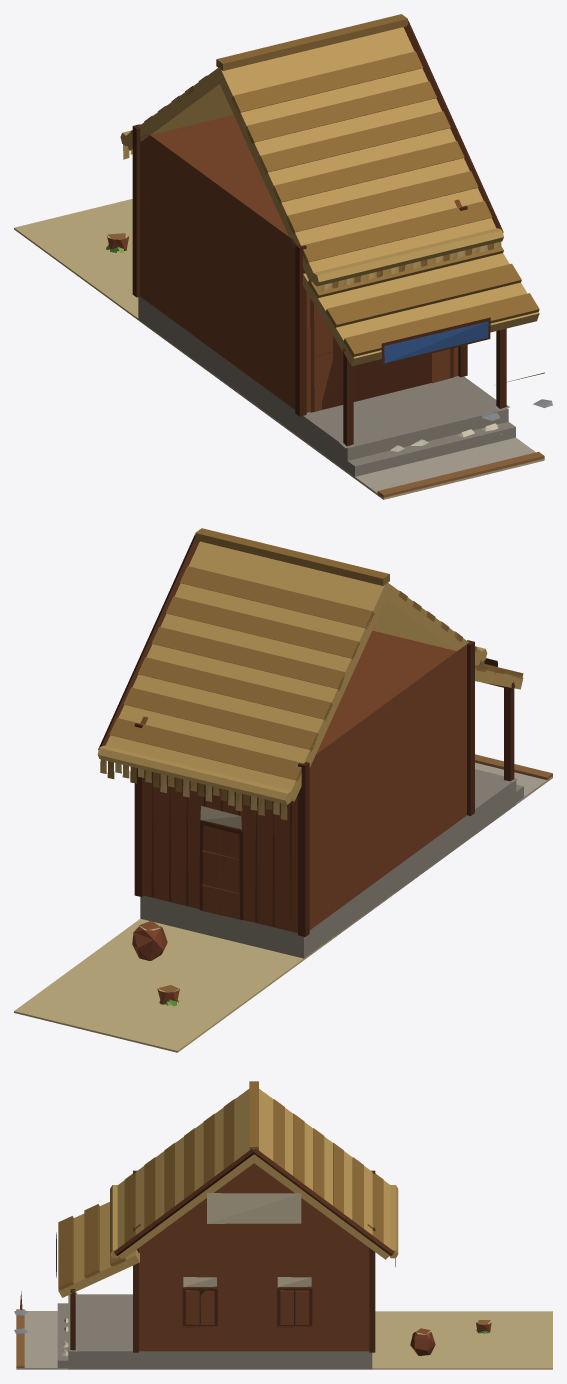
Rendered from bay2_right.glb.
3 renders of one model, top to bottom at view 1: azimuth 30°, elevation 25°; view 2: azimuth 150°, elevation 25°; view 3: azimuth 270°, elevation 25°, orthographic. The views are drawn at different scales.
Parts seen in each view (by area): view 1: body; view 2: body; view 3: body, windows.
Part boxes in pixels (x1,y1,x2,y2): body: (14, 14, 552, 499); body: (14, 528, 552, 1052); body: (14, 1081, 552, 1369); windows: (185, 1290, 309, 1324).
Bounding box in the file's own units: 4.8 × 7.85 × 15.96.
